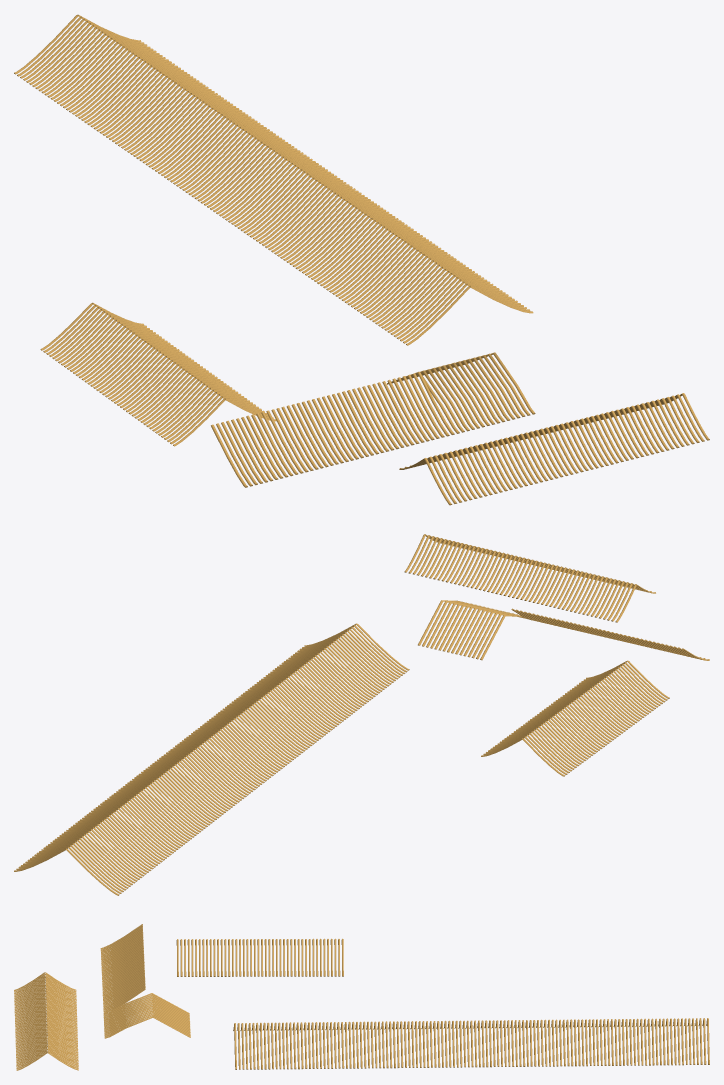
File: roof-tiles-7-4.glb
The picture shows the model from 3 angles, top to bottom: view 1: azimuth 30°, elevation 25°; view 2: azimuth 150°, elevation 25°; view 3: azimuth 270°, elevation 25°; orthographic projection. The views are drawn at different scales.
Visible parts, largest first — view 1: roof-tiles-7-4_micro_Roof_Glazed_Ochre; view 2: roof-tiles-7-4_micro_Roof_Glazed_Ochre; view 3: roof-tiles-7-4_micro_Roof_Glazed_Ochre.
Part boxes in pixels (x1=…): roof-tiles-7-4_micro_Roof_Glazed_Ochre: x1=14, y1=14, x2=709, y2=505; roof-tiles-7-4_micro_Roof_Glazed_Ochre: x1=14, y1=534, x2=709, y2=895; roof-tiles-7-4_micro_Roof_Glazed_Ochre: x1=14, y1=924, x2=709, y2=1070.
Bounding box in the file's own units: 0.3212 × 0.0324 × 0.7508.
